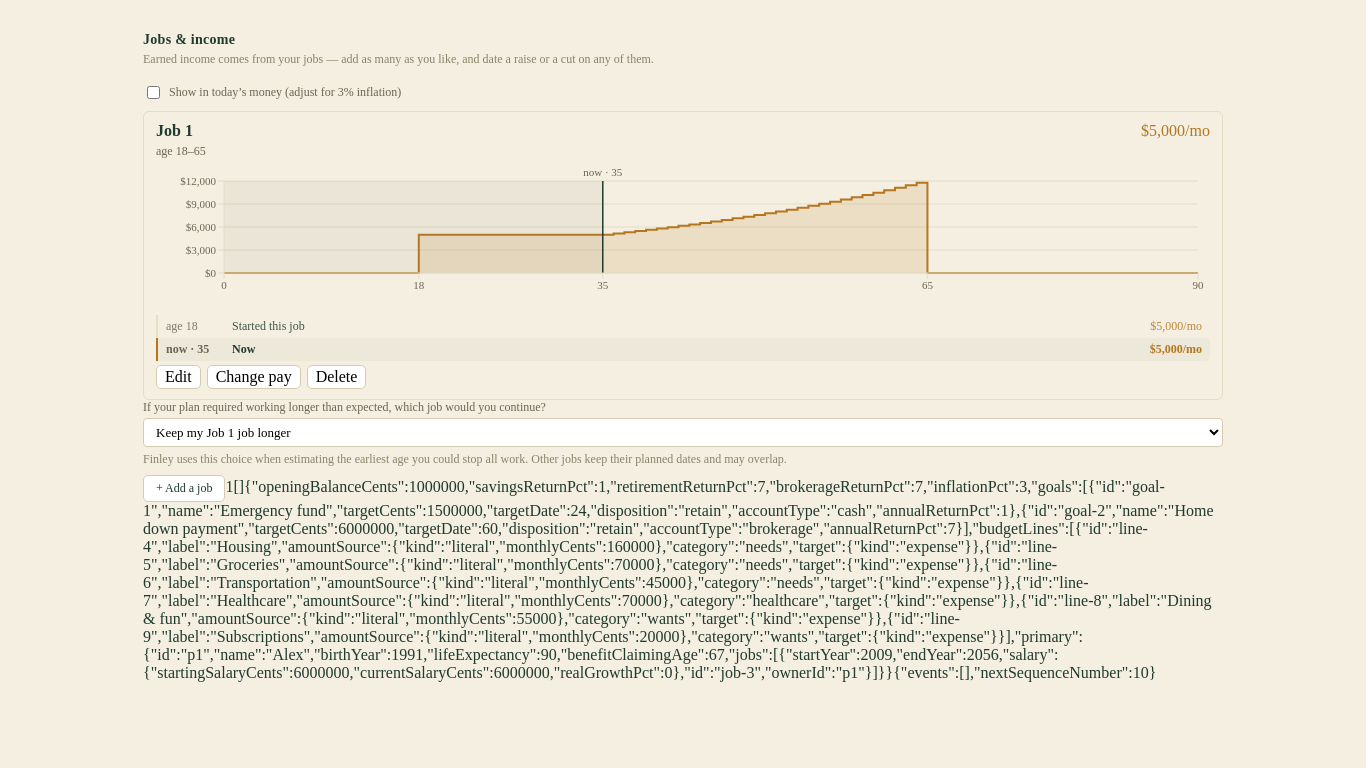
Test case: JobsPanel — add / edit / delete › deletes a job
Click the button with aria-label "Delete Job 1".
click(337, 377)  # box 307,365 -> 366,389
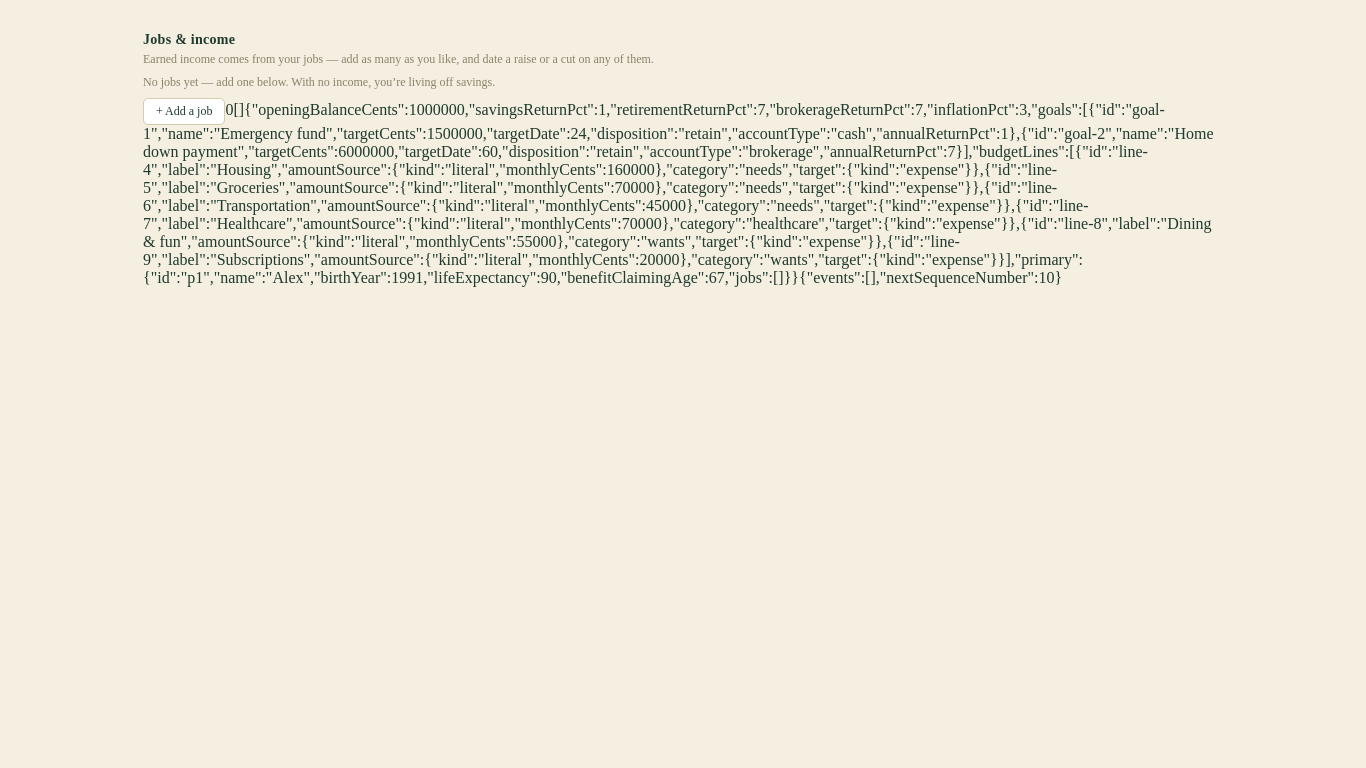
Check: the text "No jobs yet" is shown, box 143,75 -> 495,89
